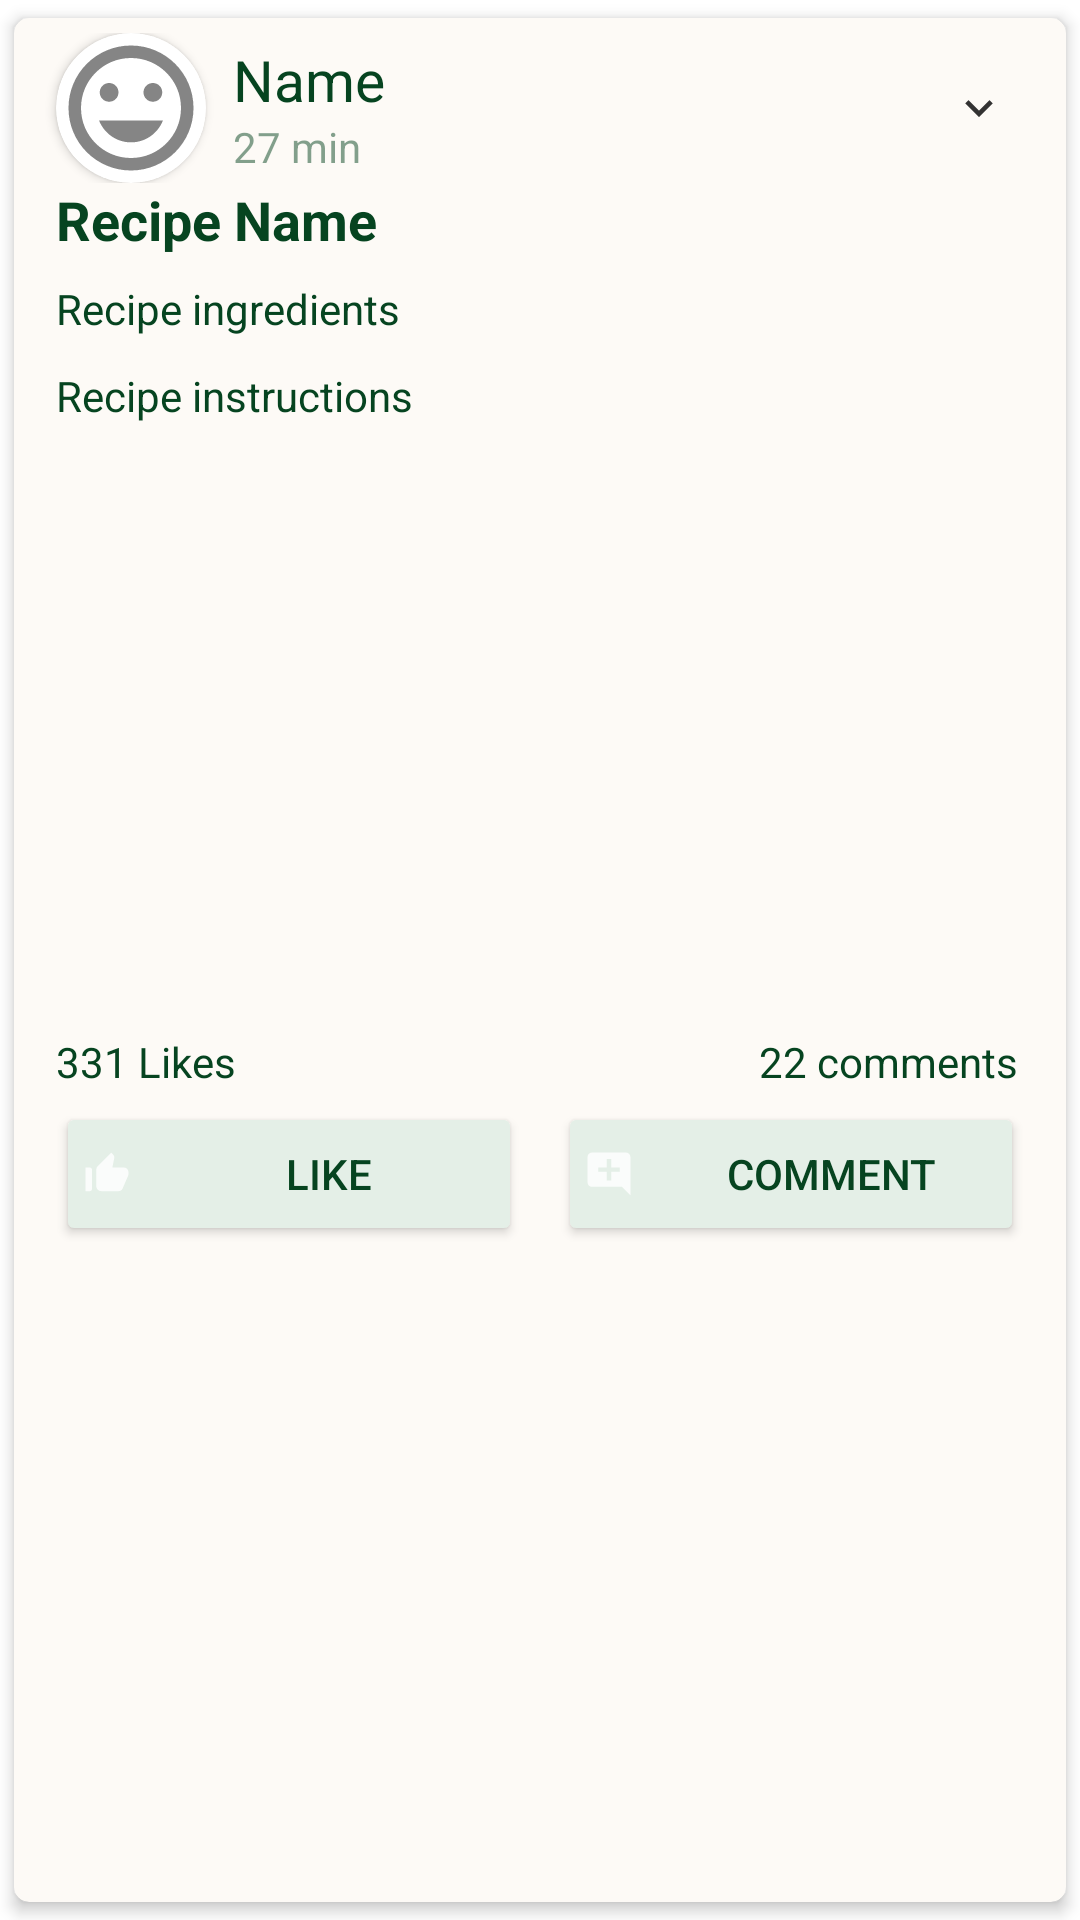

Screen size 1080 × 1920. Icon name, then its center in pixels as [x,y]:
more: [979,108]
profile: [131,108]
